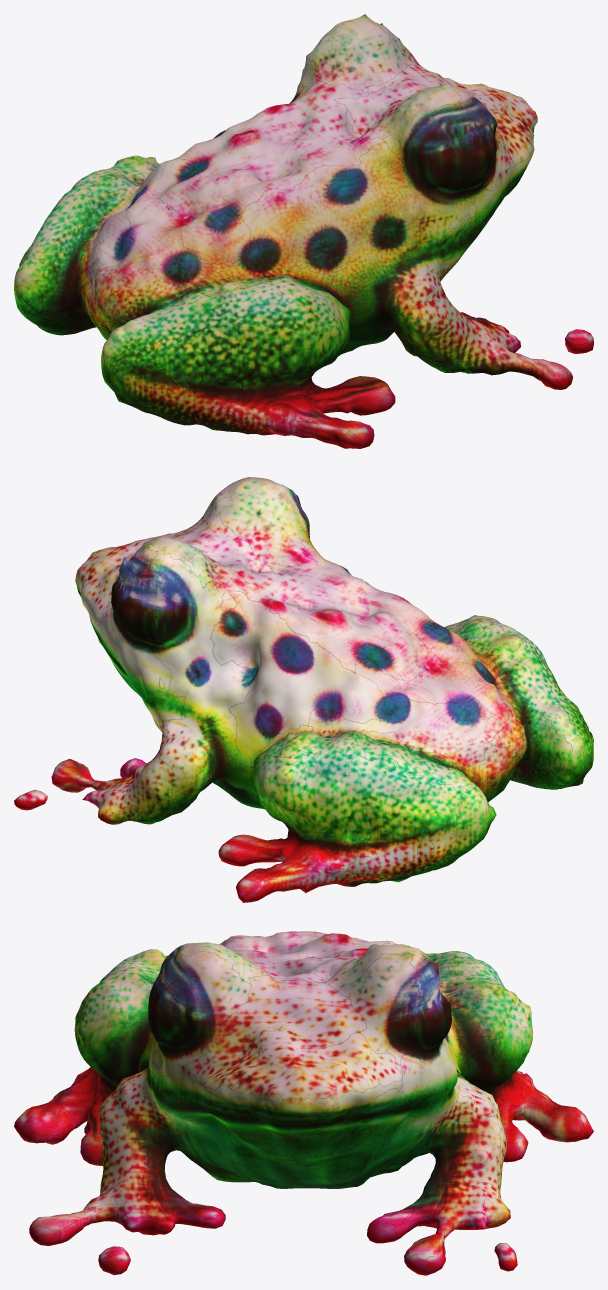
The model's file is frog.glb.
3 renders of one model, top to bottom at view 1: azimuth 30°, elevation 25°; view 2: azimuth 150°, elevation 25°; view 3: azimuth 270°, elevation 25°, orthographic. The views are drawn at different scales.
Parts seen in each view (by area): view 1: Mesh1; view 2: Mesh1; view 3: Mesh1.
Part boxes in pixels (x1,y1,x2,y2): Mesh1: [14, 14, 593, 448]; Mesh1: [14, 477, 593, 902]; Mesh1: [14, 931, 593, 1275].
Size of the model in its own units: 1.2 by 0.6539 by 1.19.
1 material, 1 textured.
